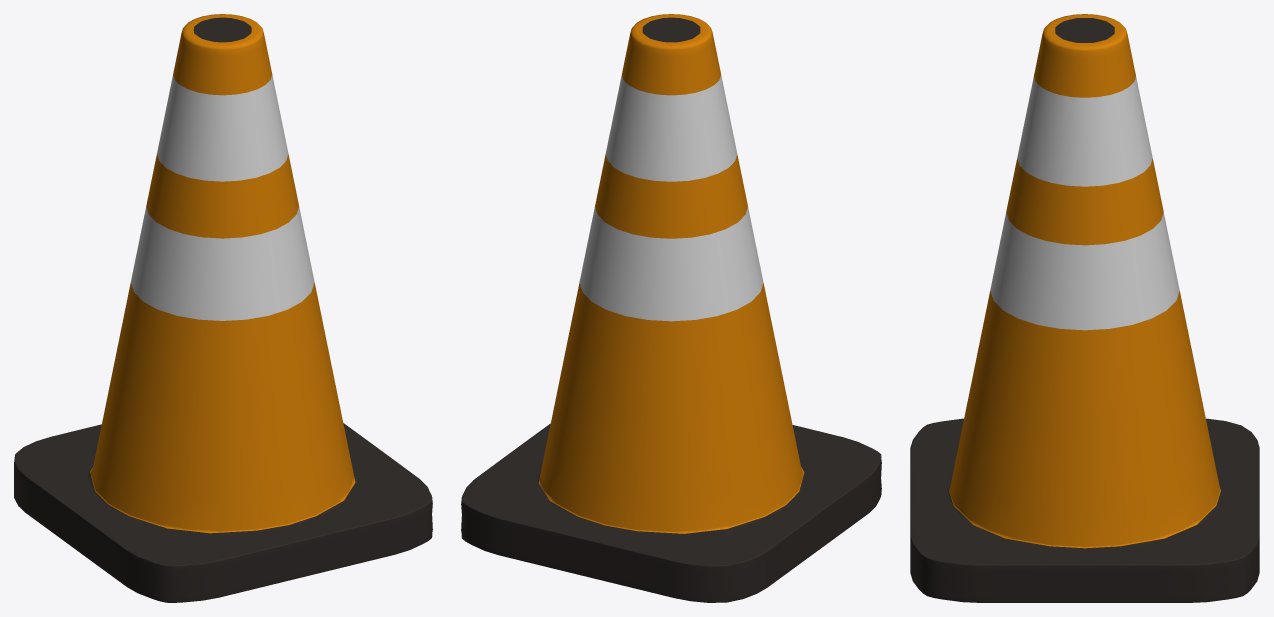
Rendered from OrangeCone.fbx.
3 renders of one model, left to right at view 1: azimuth 30°, elevation 25°; view 2: azimuth 150°, elevation 25°; view 3: azimuth 270°, elevation 25°, orthographic. The views are drawn at different scales.
Visible parts, largest first — view 1: pCube2; view 2: pCube2; view 3: pCube2.
Part boxes in pixels (x1,y1,x2,y2): pCube2: (14,14,432,602); pCube2: (461,14,881,602); pCube2: (910,14,1259,602).
Size of the model in its own units: 1.58 by 2.49 by 1.58.
